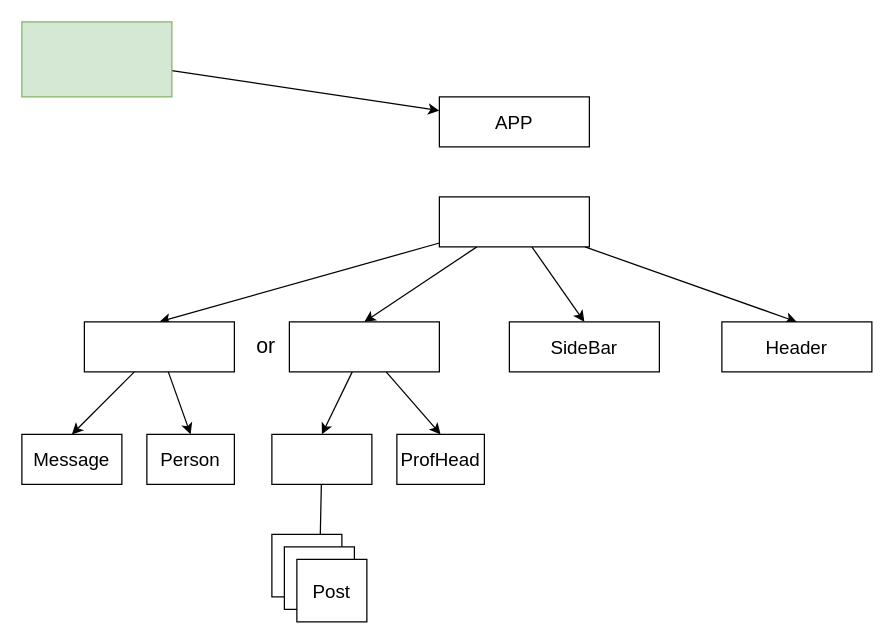
This 894x644 diagram has some shape labels left out. Here are the shapes that lost their labels. From the top down, the centre of each, then its label:
At pixel 96 59: "INDEX.JS".
At pixel 513 221: "BrowserRouter".
At pixel 158 346: "Dialogs".
At pixel 363 346: "Profile".
At pixel 321 458: "MyPosts".
